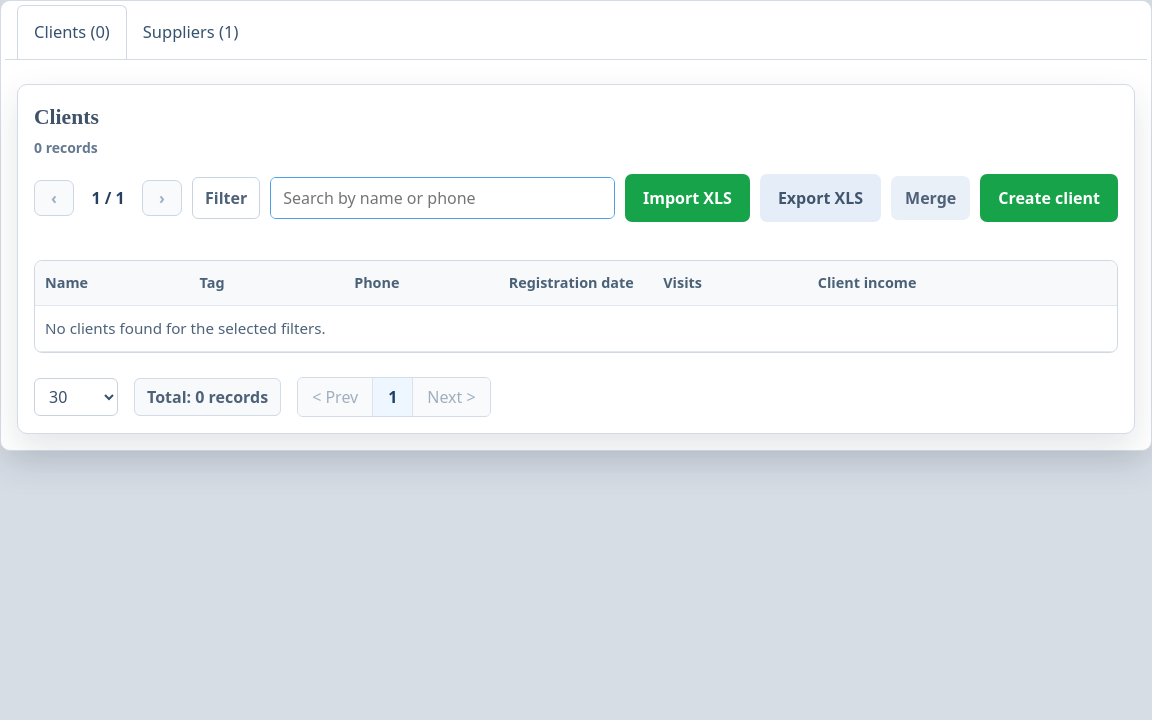
ClientsSuppliersWorkspace suppliers filters › allows promoting an additional supplier phone to primary
Step 1. Click the tab "Suppliers (1)" → (191, 32), box [127, 5, 254, 59]
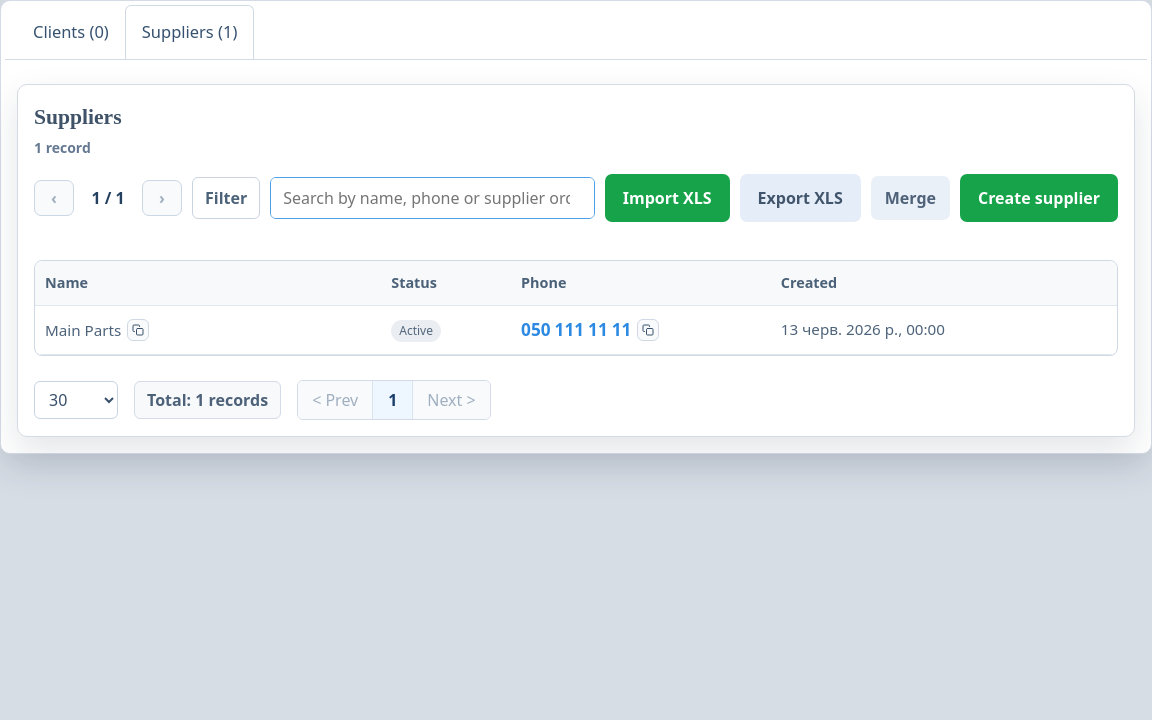
Step 2. Click the text "Main Parts" → (83, 330), box [45, 319, 121, 342]
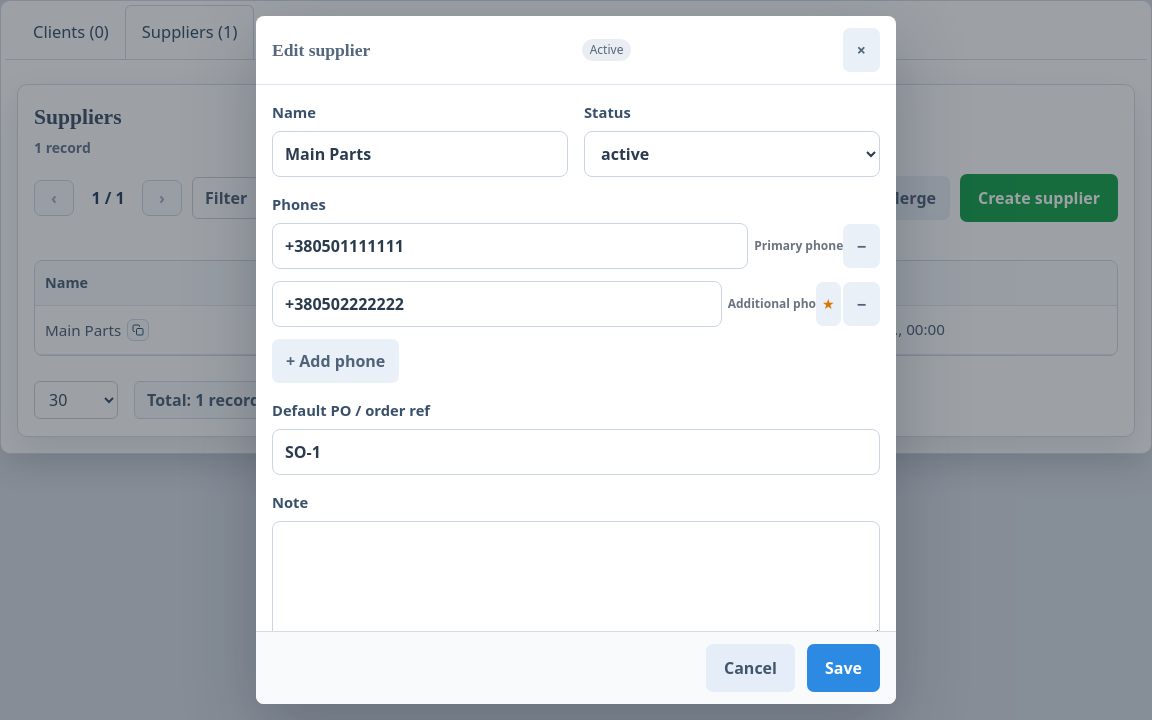
Step 3. Click the button named "Set as primary phone" → (828, 304), box [816, 282, 841, 326]
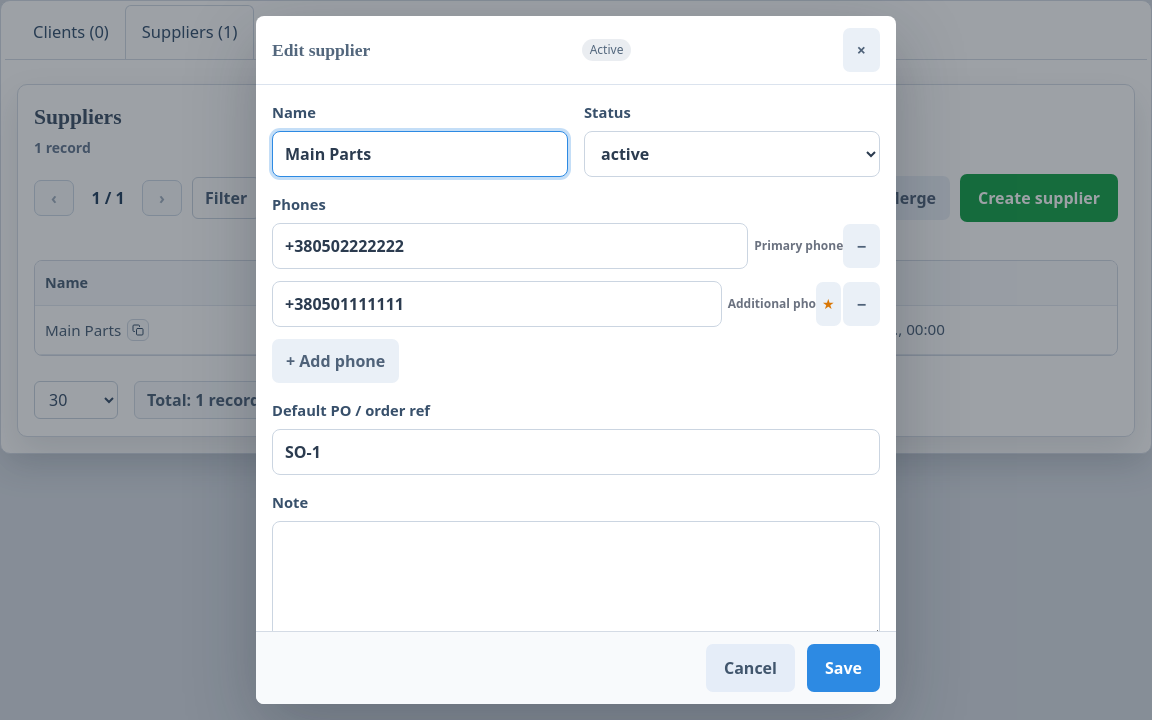
Now the field next to "Primary phone" holds "+380502222222", box [272, 223, 748, 269]
Now the field next to "Additional phone" holds "+380501111111", box [272, 281, 722, 327]
